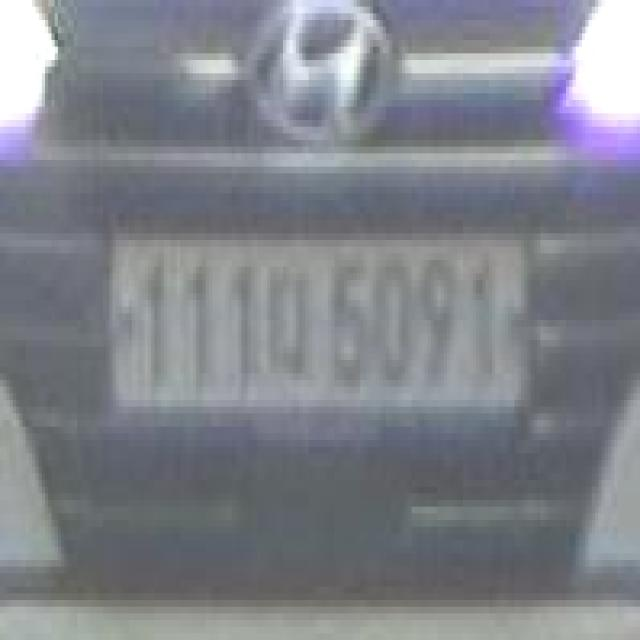illegal_plate: (106, 215, 539, 442)
